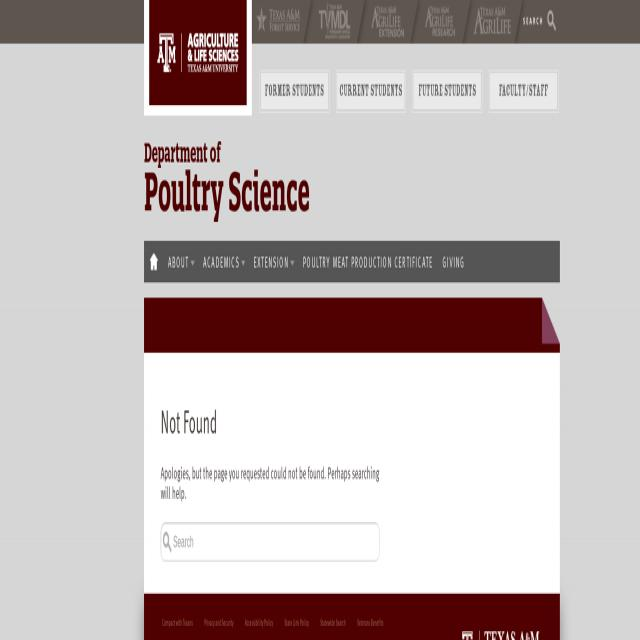button: (144, 0, 252, 115), (302, 240, 434, 282), (252, 0, 320, 44), (302, 0, 370, 44), (356, 0, 424, 44), (408, 0, 476, 44), (460, 0, 528, 44), (490, 73, 557, 109), (261, 73, 328, 109), (414, 73, 481, 109), (338, 73, 404, 109), (520, 2, 582, 40), (202, 240, 245, 282), (252, 240, 294, 282), (167, 240, 194, 282), (441, 240, 466, 282), (149, 246, 160, 276)
field: (160, 523, 380, 561)
